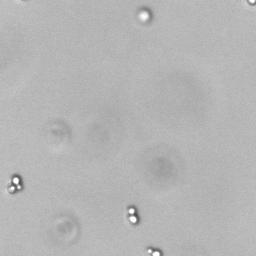budding: (7, 175, 23, 194), (126, 205, 138, 225), (146, 245, 163, 256)
